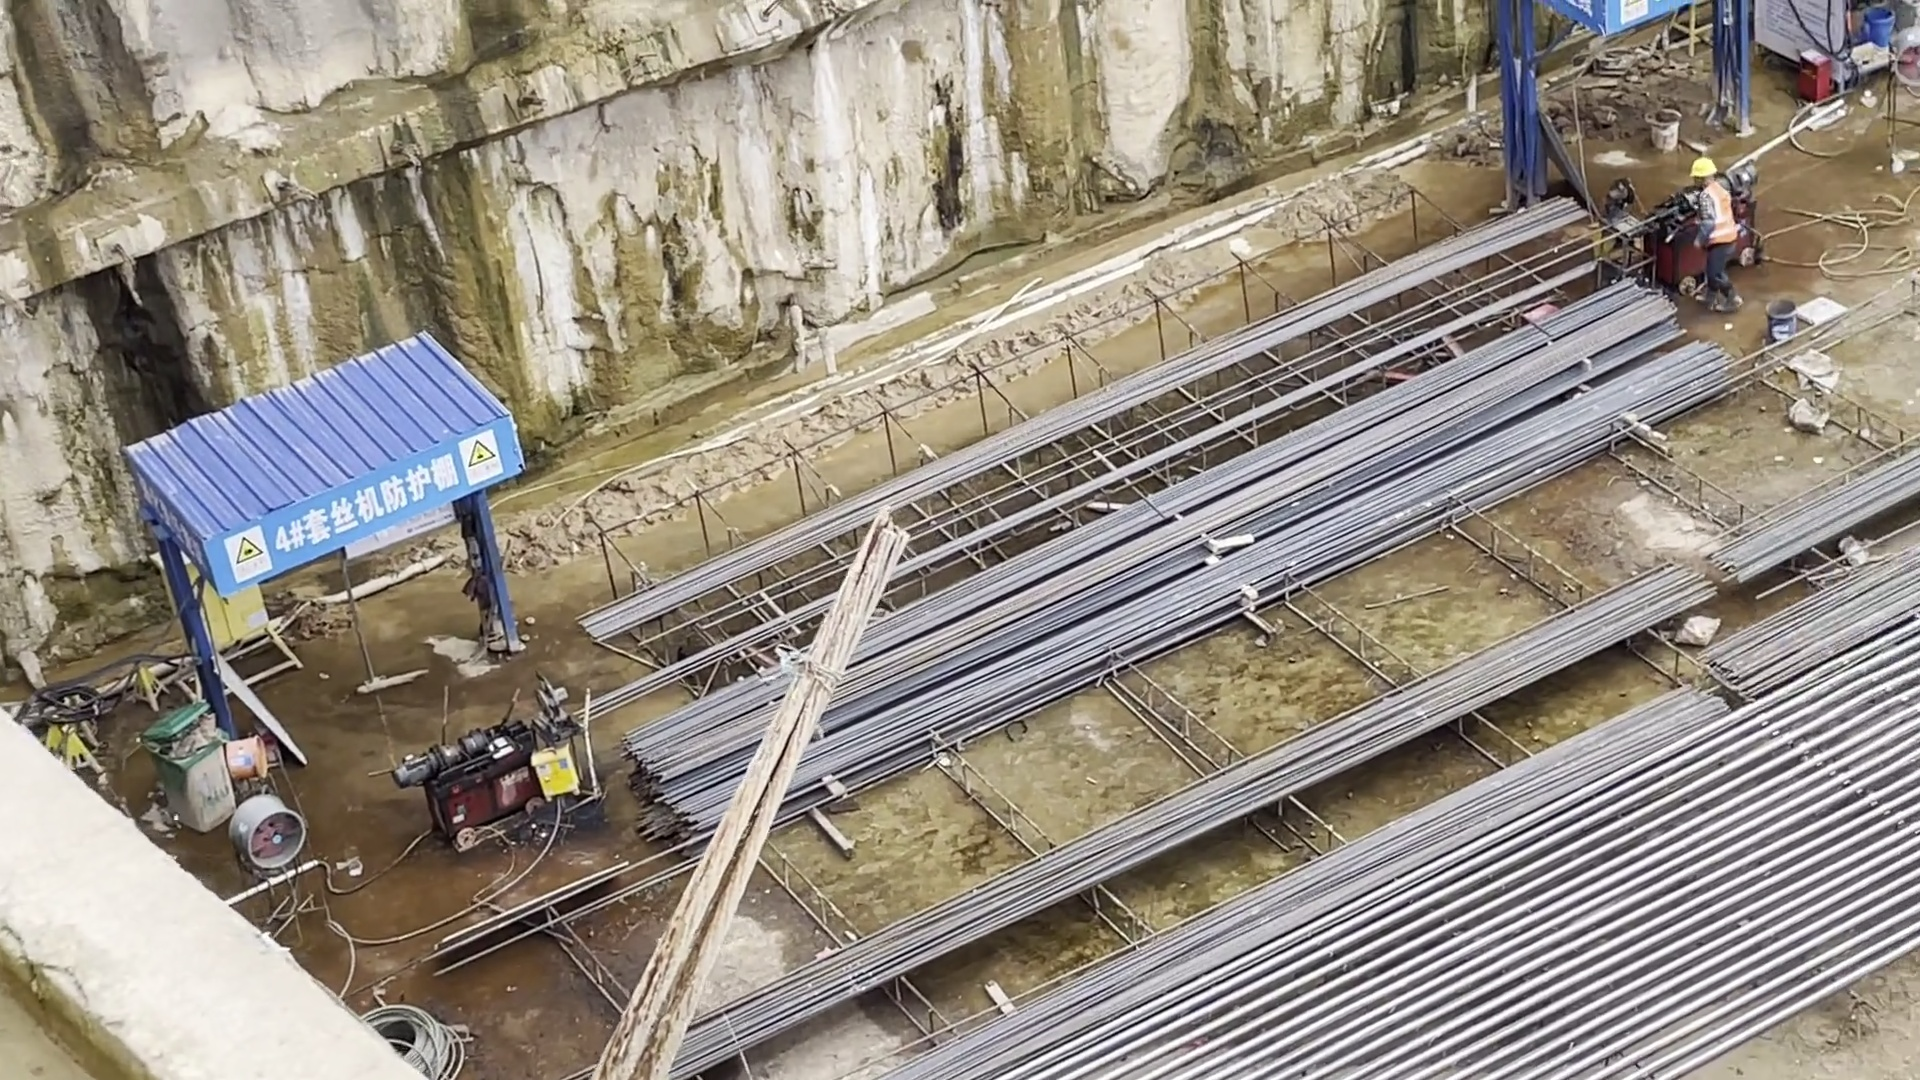helmet: (1690, 160, 1717, 178)
person: (1682, 158, 1745, 320)
rebar: (572, 192, 1920, 1080)
slogan: (222, 412, 517, 593)
vest: (1701, 184, 1735, 246)
